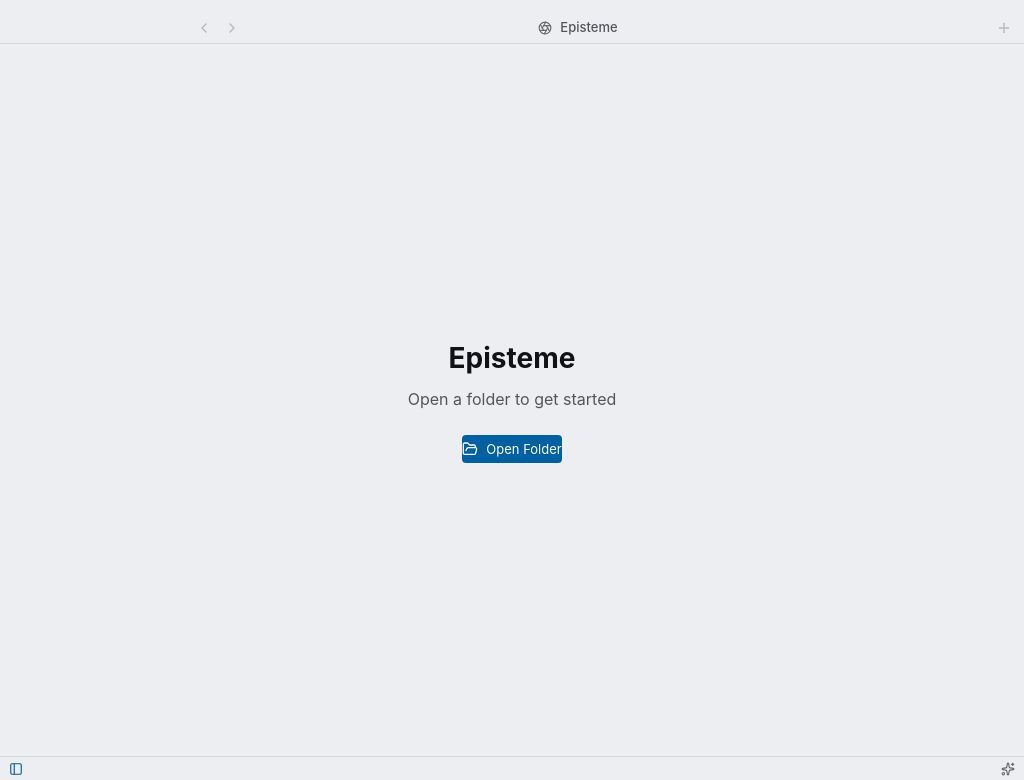
Test case: Open folder integration › click Open Folder → dialog → path returned → store updated → UI updates
Note: Click Open Folder
Click the button "Open Folder". click: click(512, 449)
box: [462,435,562,463]
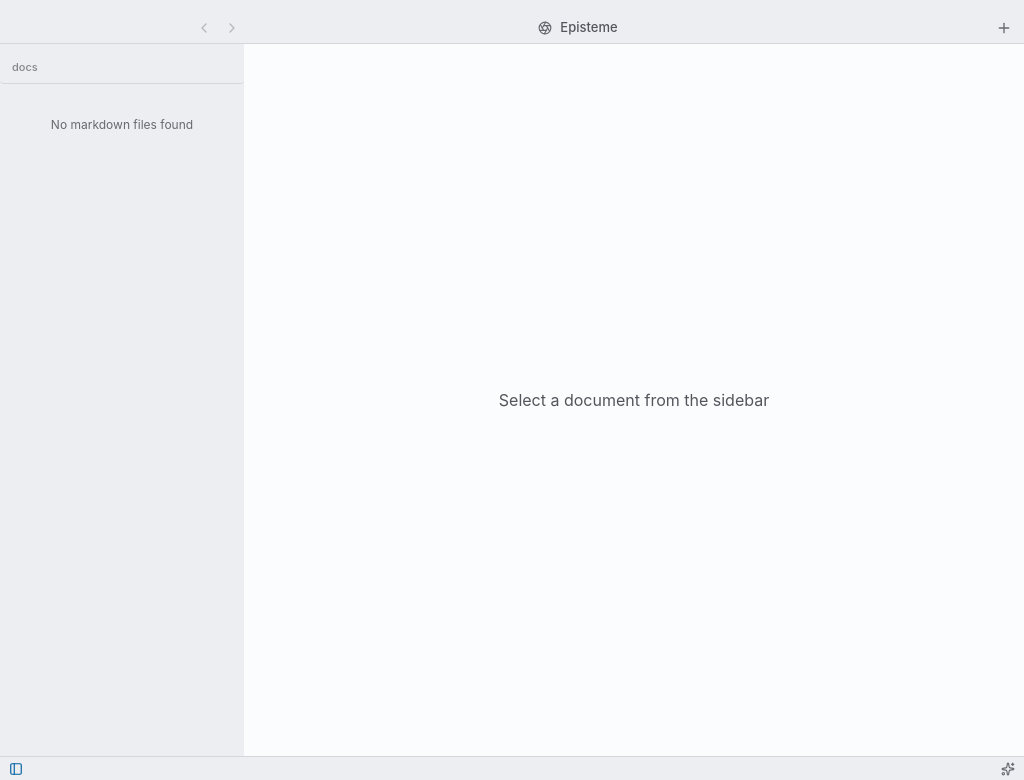
Expected: the text "Select a document from the sidebar" is shown, [499,388,769,412]
